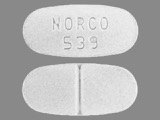Acetaminophen 325 MG Oral Tablet: (19, 2, 141, 61), (18, 63, 143, 117)
